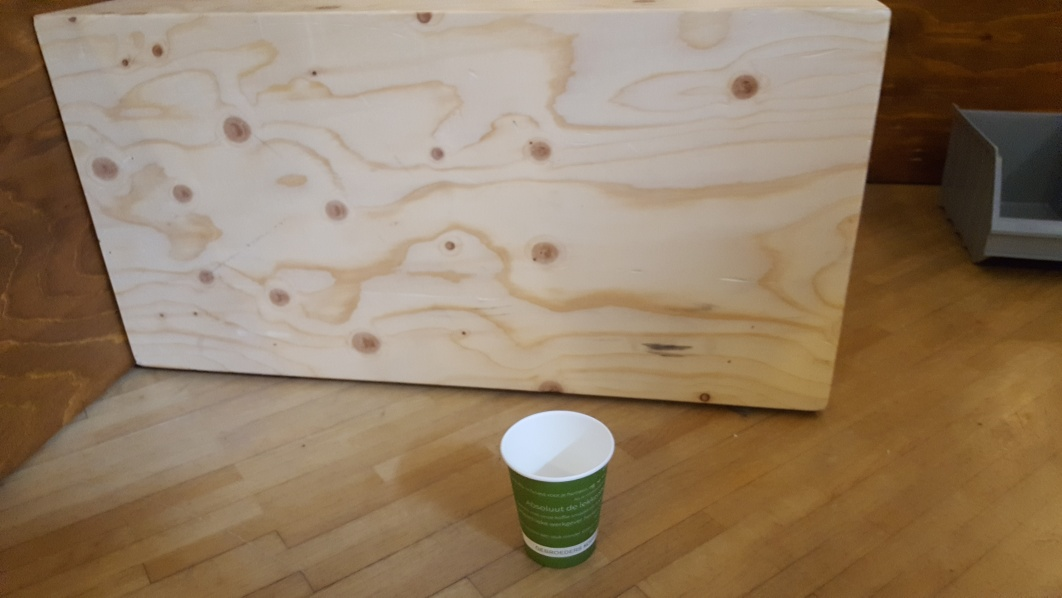cup: (498, 407, 620, 569)
